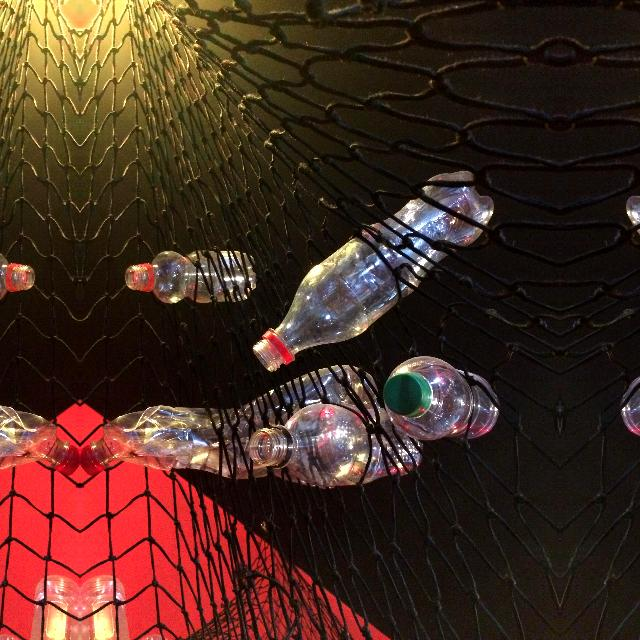Plastic: (242, 163, 502, 374), (80, 357, 432, 487), (238, 396, 448, 499), (378, 347, 514, 443), (0, 357, 80, 487), (116, 242, 264, 308), (84, 559, 142, 639), (18, 559, 76, 639), (605, 347, 640, 443), (0, 241, 44, 308)
